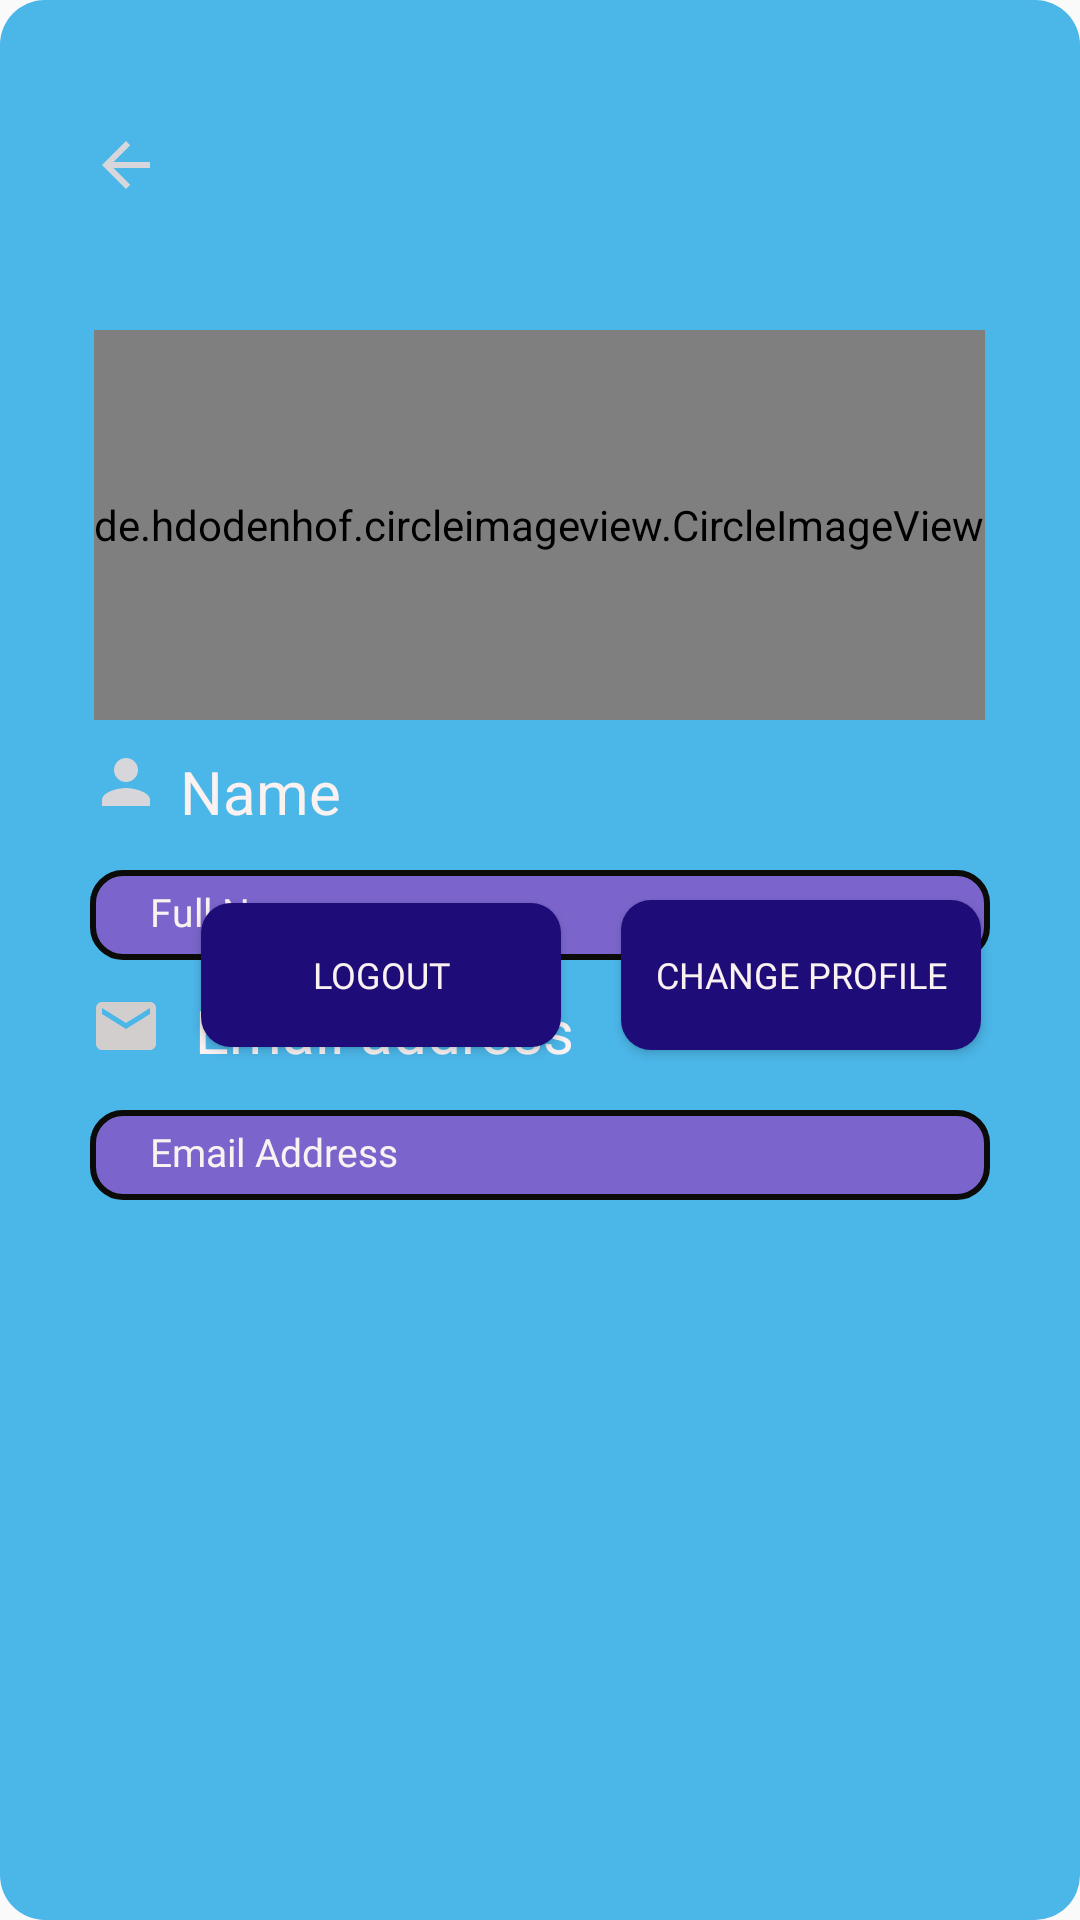

Named icons in this screenshot (1080*1920) and their bounding boxes, Rect(x1, y1, x2, y2):
arrow back: Rect(102, 141, 150, 189)
person: Rect(102, 758, 150, 806)
